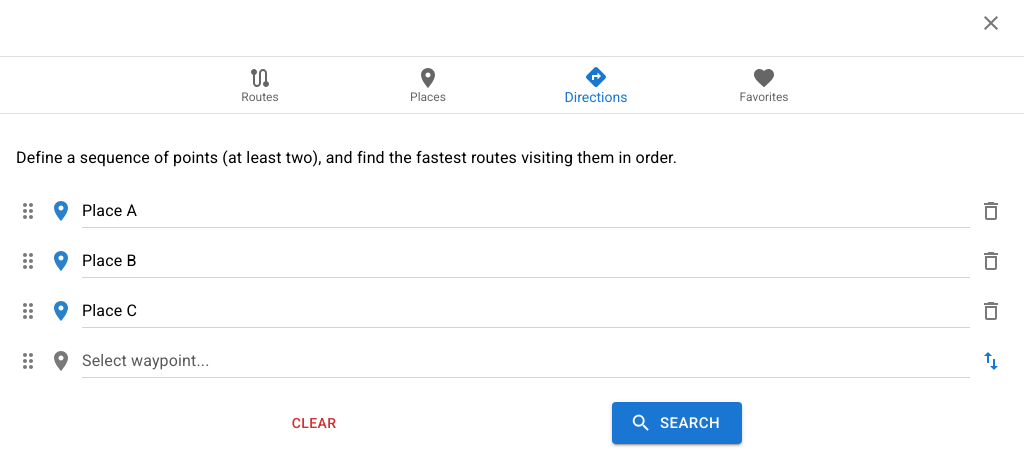
Test: <SearchDirecsPanel /> › sequence › should remove selected location upon clicking on Remove
Expected: the number of list items is 3, [16, 194, 1008, 244]; [16, 244, 1008, 294]; [16, 294, 1008, 344]
Expected: the list item "Place B" is shown, [16, 244, 1008, 294]
What coordinates should you click on to do the following:
click the button named "Remove point" in the row of "Place B"
I would click on:
 (991, 261)
Its box is [974, 244, 1008, 278].
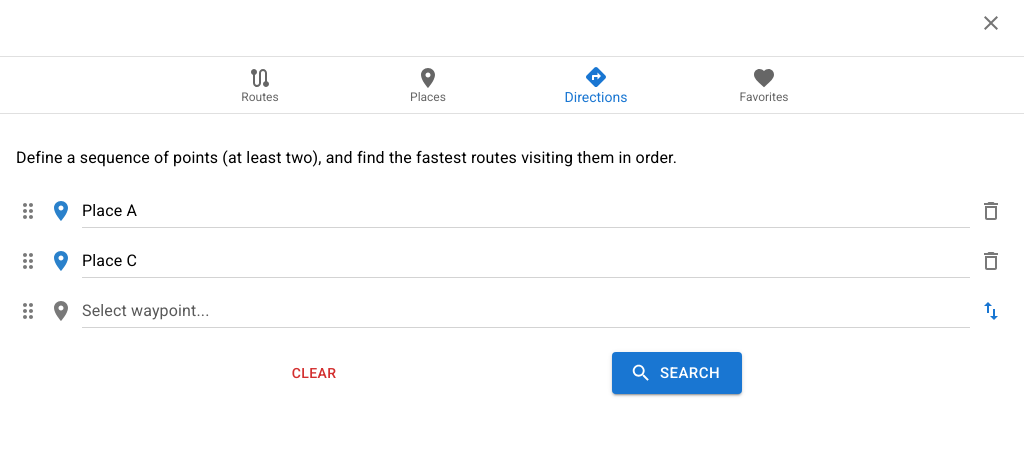
Now the number of list items is 2, box [16, 194, 1008, 244]; [16, 244, 1008, 294]
Now the text "Place B" is gone
